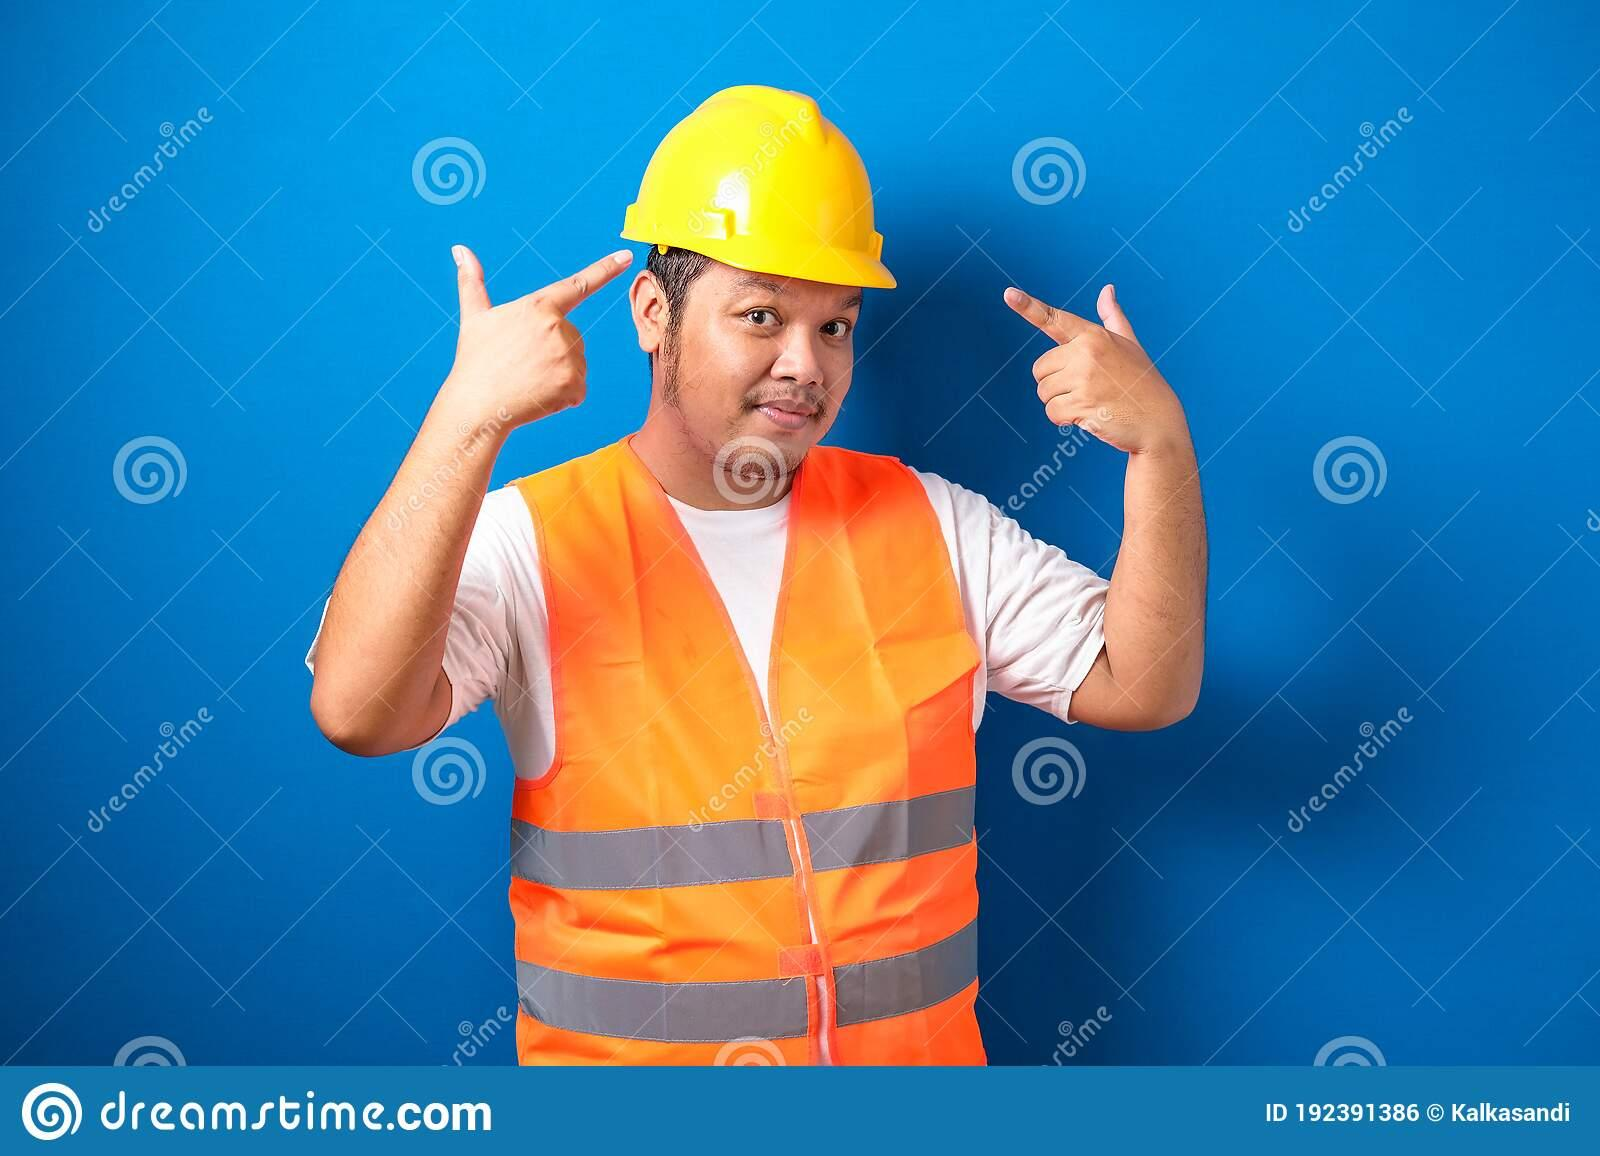hat: (578, 53, 944, 341)
vest: (468, 413, 1004, 1060)
